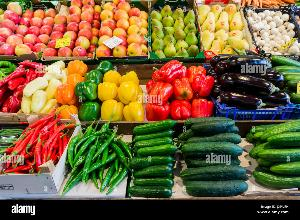apple: (0, 1, 54, 54), (98, 4, 150, 56), (50, 0, 96, 56)
bell_pepper: (63, 123, 127, 201), (59, 61, 145, 119), (4, 116, 68, 191), (146, 61, 212, 123), (0, 58, 46, 112)
cucumber: (178, 121, 242, 201), (248, 120, 300, 196), (128, 121, 178, 199), (270, 53, 300, 93)
eggplant: (212, 54, 288, 112)
pear: (196, 0, 252, 58), (151, 2, 201, 60)
